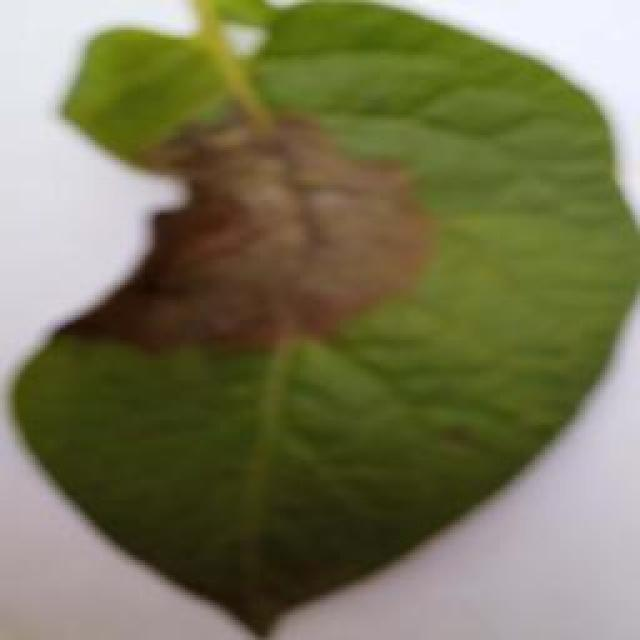Potato_Late_Blight: (2, 16, 620, 628)
